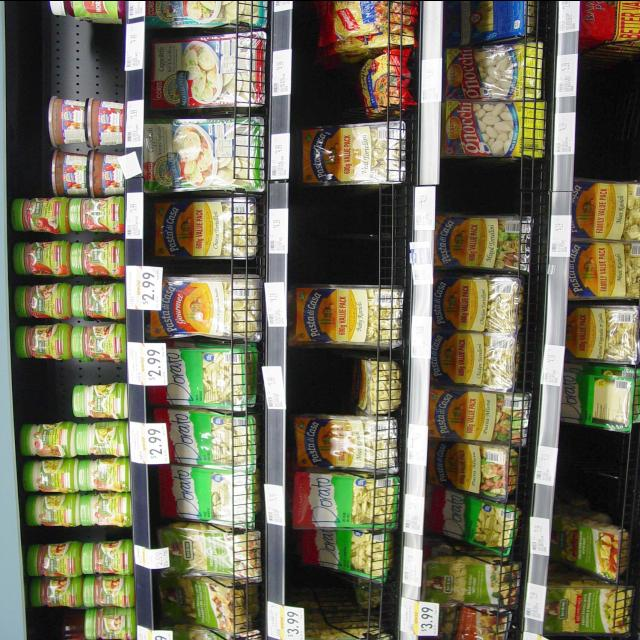empty_space: (309, 189, 395, 277), (590, 52, 640, 176), (44, 24, 120, 88), (568, 438, 628, 510), (469, 158, 539, 210), (309, 580, 377, 620), (312, 355, 350, 401)
